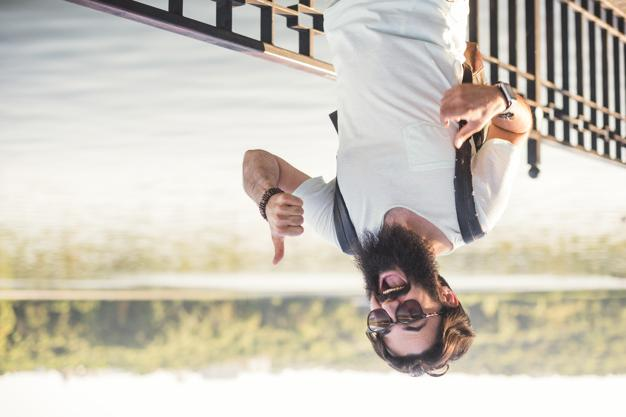thumbsdown: (270, 194, 303, 265)
